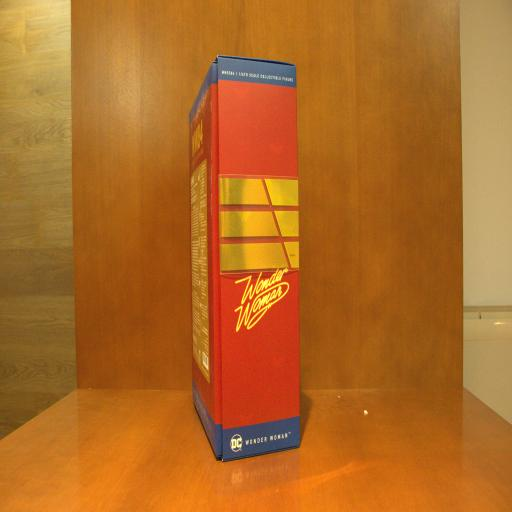WonderWoman: (189, 55, 304, 461)
